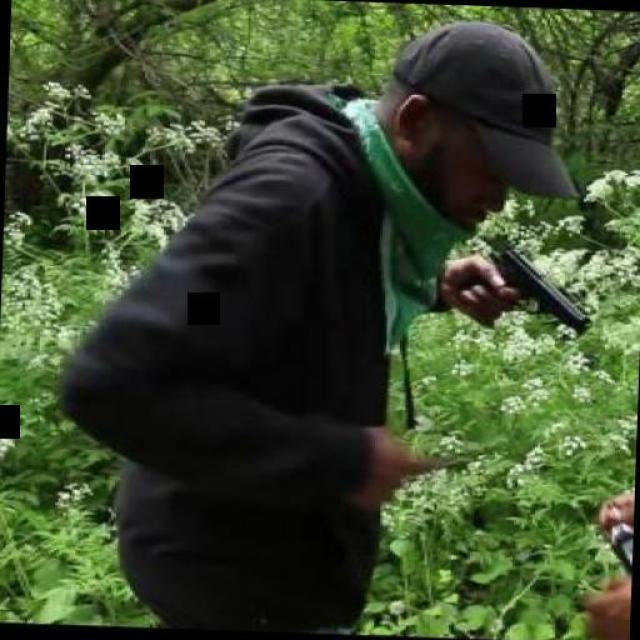gun: (468, 242, 590, 332)
